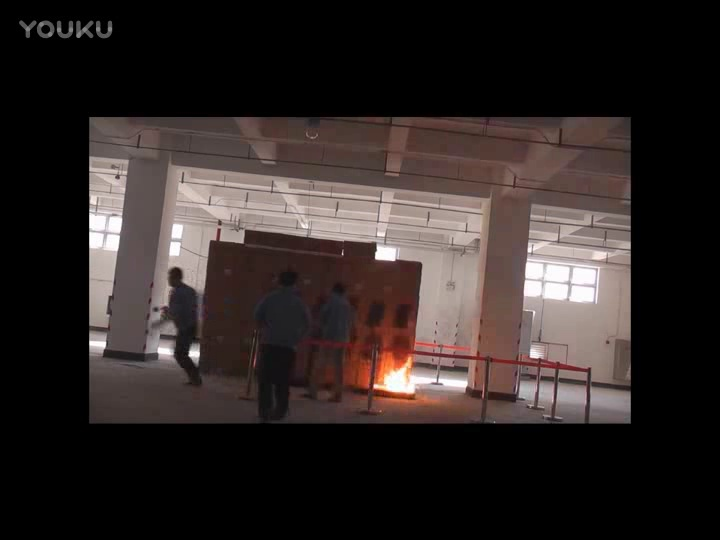fire: (374, 349, 417, 393)
